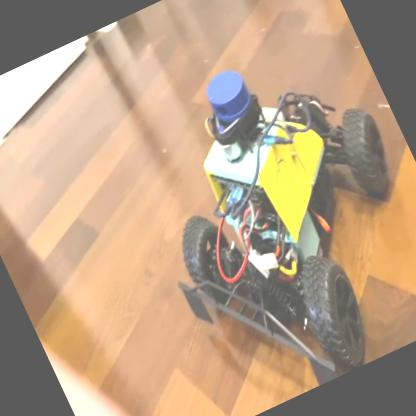mushr_car: (99, 19, 415, 415)
